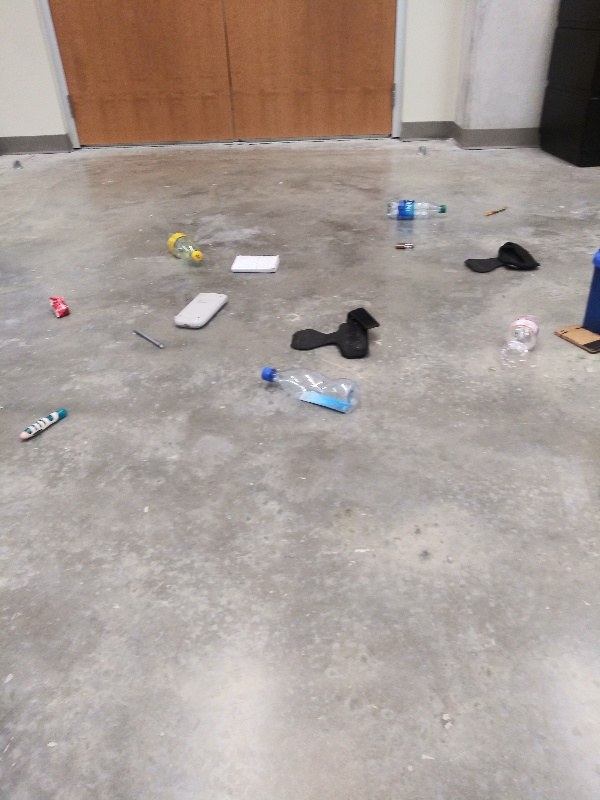bottle: (256, 365, 363, 417), (497, 308, 547, 374), (384, 195, 453, 225), (161, 228, 208, 266)
